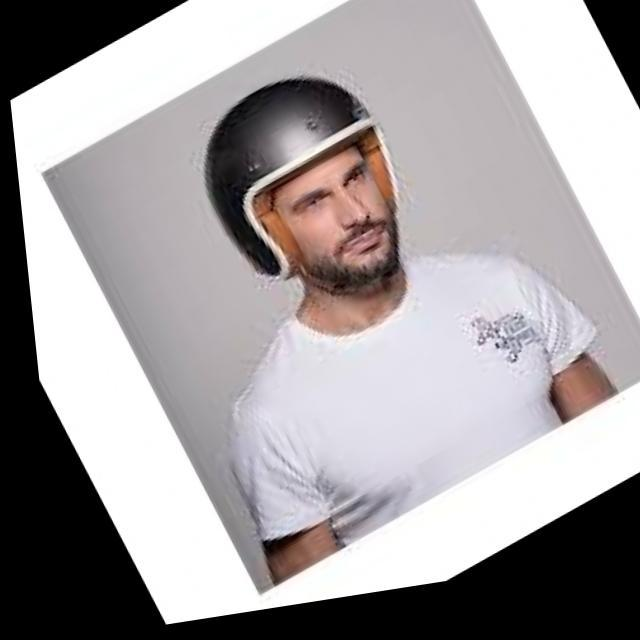Helmet: (201, 73, 406, 294)
